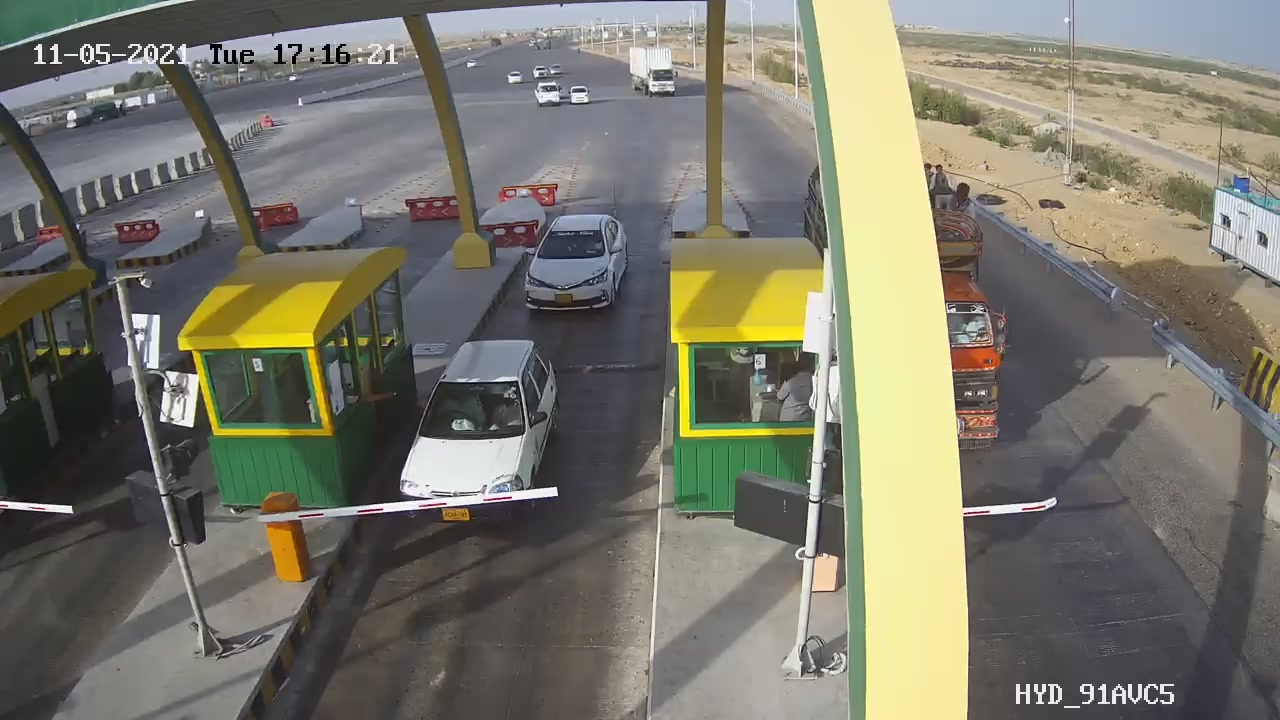F1: (390, 326, 574, 539), (514, 199, 644, 330)
